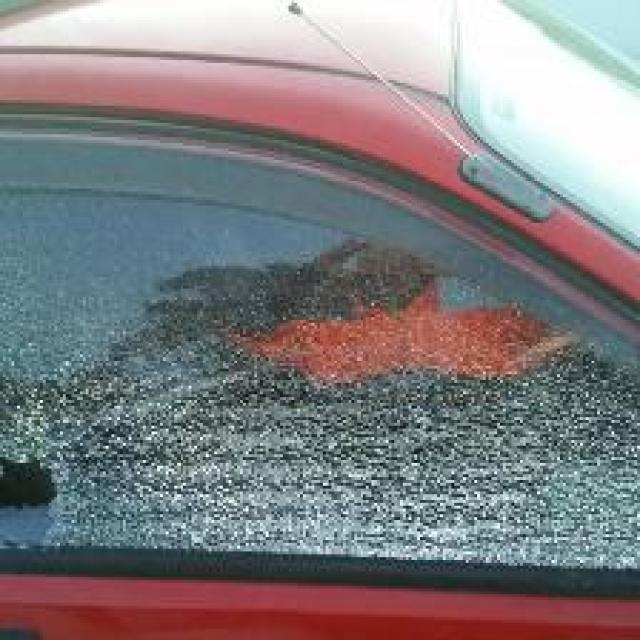glass_shatter_moderate: (23, 340, 637, 591)
